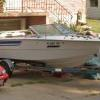Boat: (9, 18, 99, 81)
